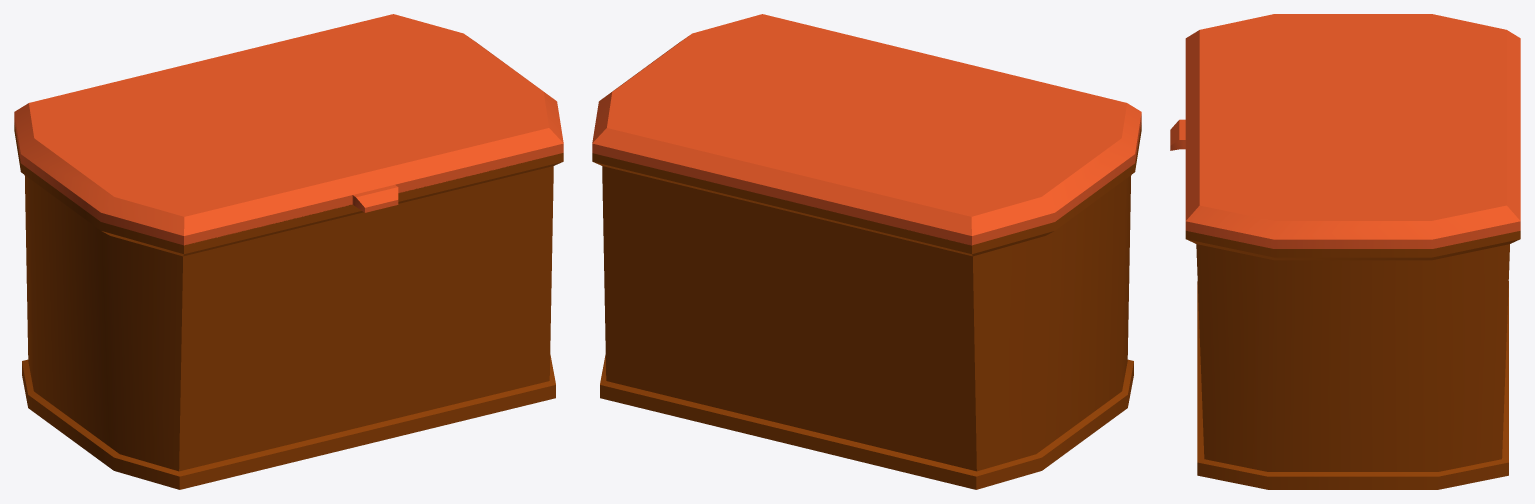
The model's file is CompostGrande_02.fbx.
3 views of the same model, side by side, from view 1: azimuth 30°, elevation 25°; view 2: azimuth 150°, elevation 25°; view 3: azimuth 270°, elevation 25° (orthographic).
Parts seen in each view (by area): view 1: CompostGrande_02; view 2: CompostGrande_02; view 3: CompostGrande_02.
Boxes of the visible parts, left/top/right/bottom form: CompostGrande_02: left=14, top=14, right=563, bottom=489; CompostGrande_02: left=592, top=14, right=1141, bottom=489; CompostGrande_02: left=1170, top=14, right=1520, bottom=489.
Bounding box in the file's own units: 466 × 264 × 314.
